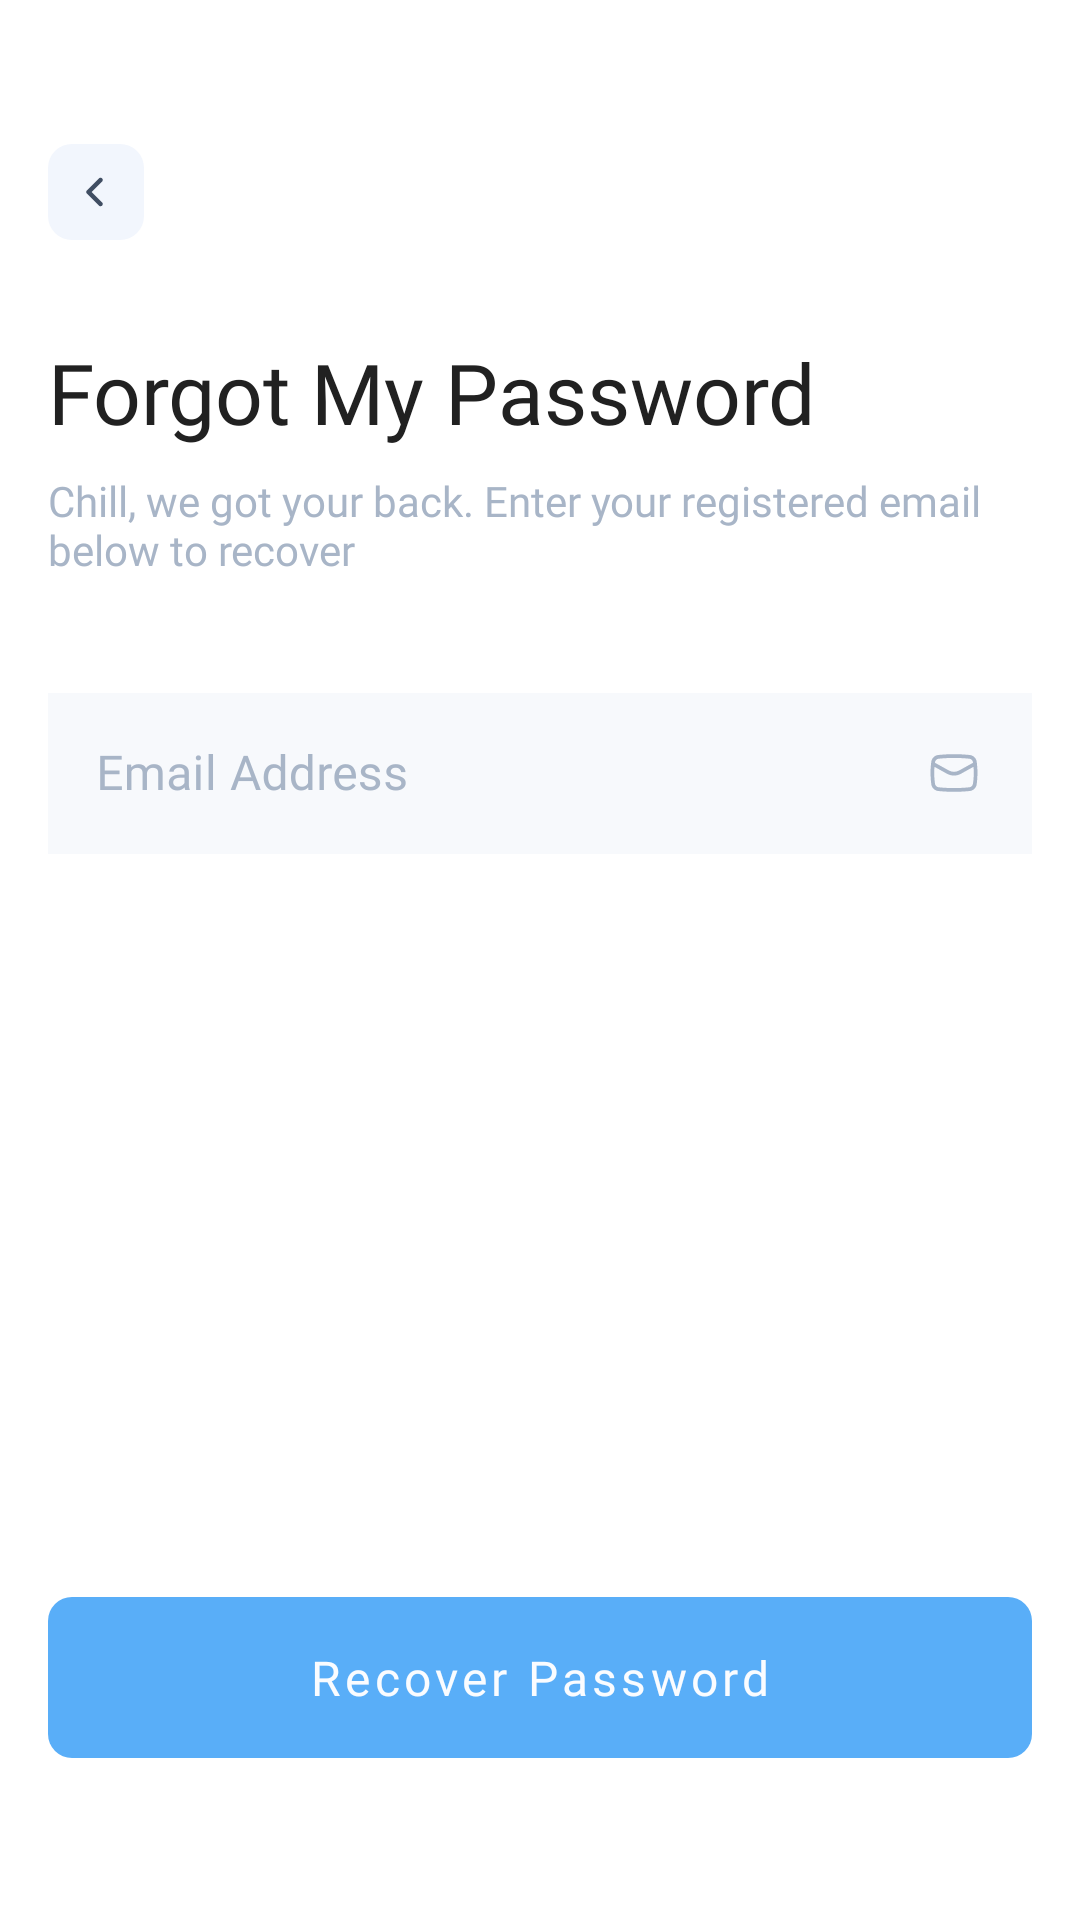

Where to tap for icons on this 1080w x 1920h app screen, as [x,y]:
back: [96,192]
